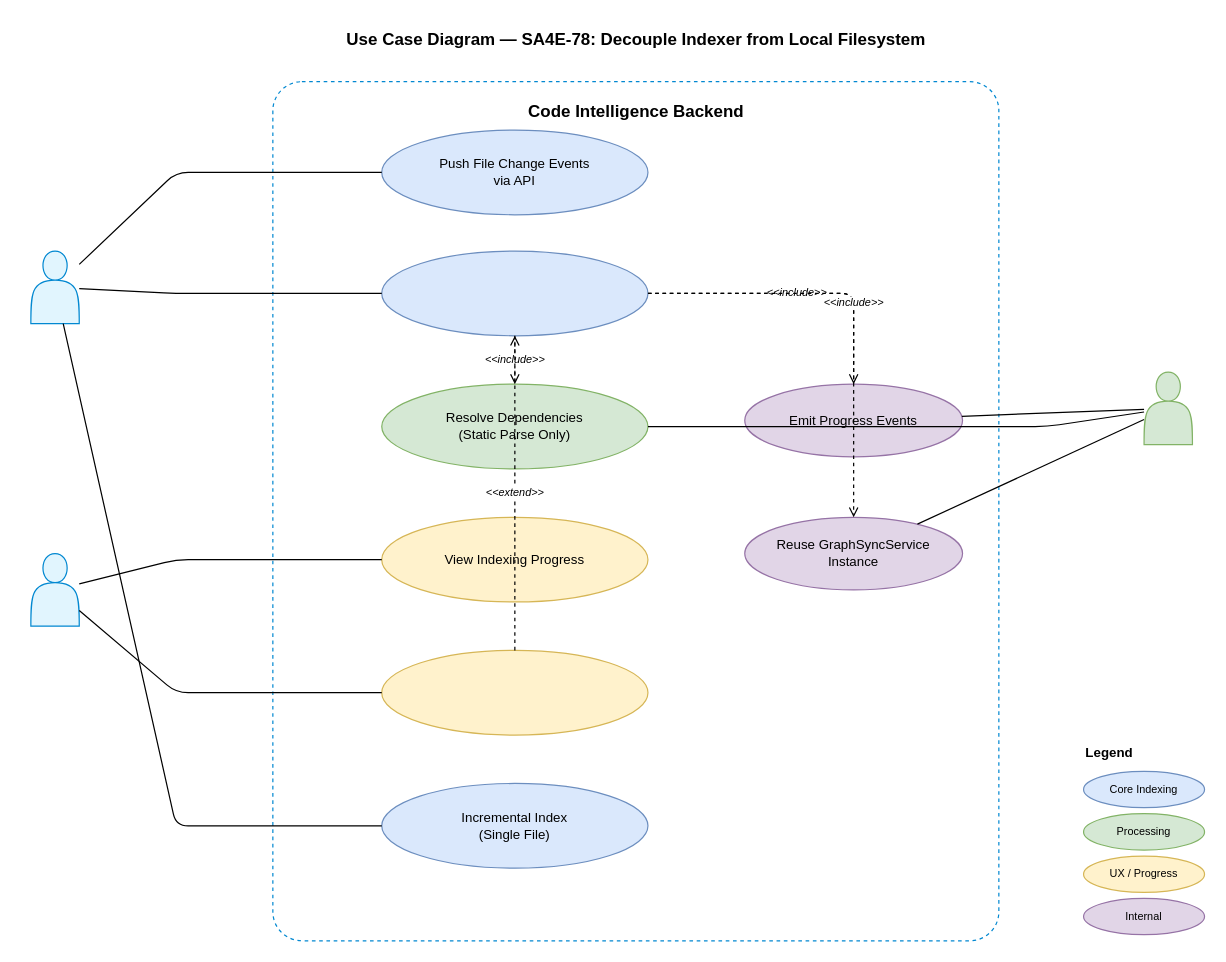
Image size: 1226x962. Some labels were removed from this diagram. Here are the shapes that lost their labels. From the top down, the centre of each, then its label:
the point at 54,287: Extension (VS Code/Kiro)
the point at 514,293: Trigger Full Index (Async Non-Blocking)
the point at 1167,408: Indexing Engine
the point at 54,589: Developer
the point at 514,692: Cancel Index Operation
